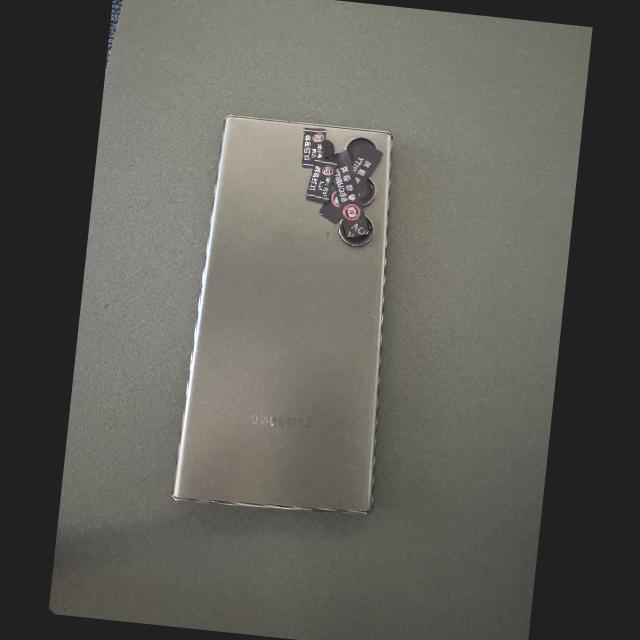lens: (340, 216, 373, 245), (345, 138, 375, 161), (359, 179, 375, 204), (322, 140, 334, 158)
phone: (173, 116, 391, 513)
sticker: (327, 150, 368, 237), (304, 157, 337, 203), (351, 144, 381, 192), (301, 128, 326, 168)
